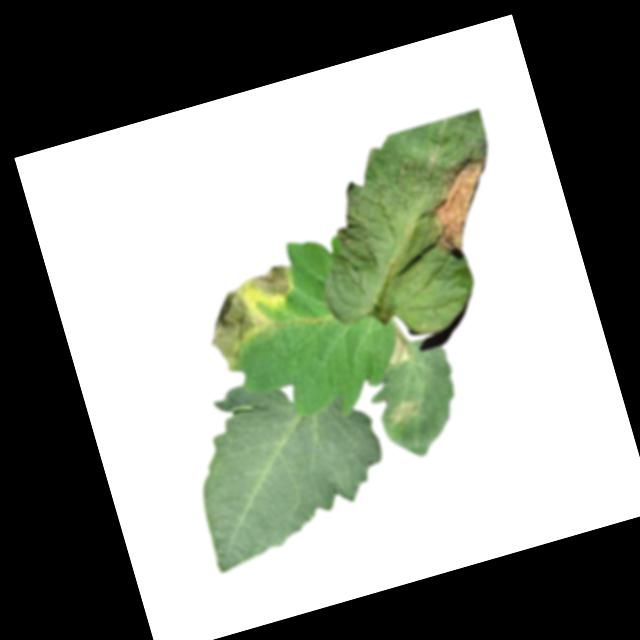Late_blight: (411, 148, 509, 261), (195, 284, 269, 375), (241, 262, 298, 308), (379, 324, 412, 365), (386, 395, 422, 427)
